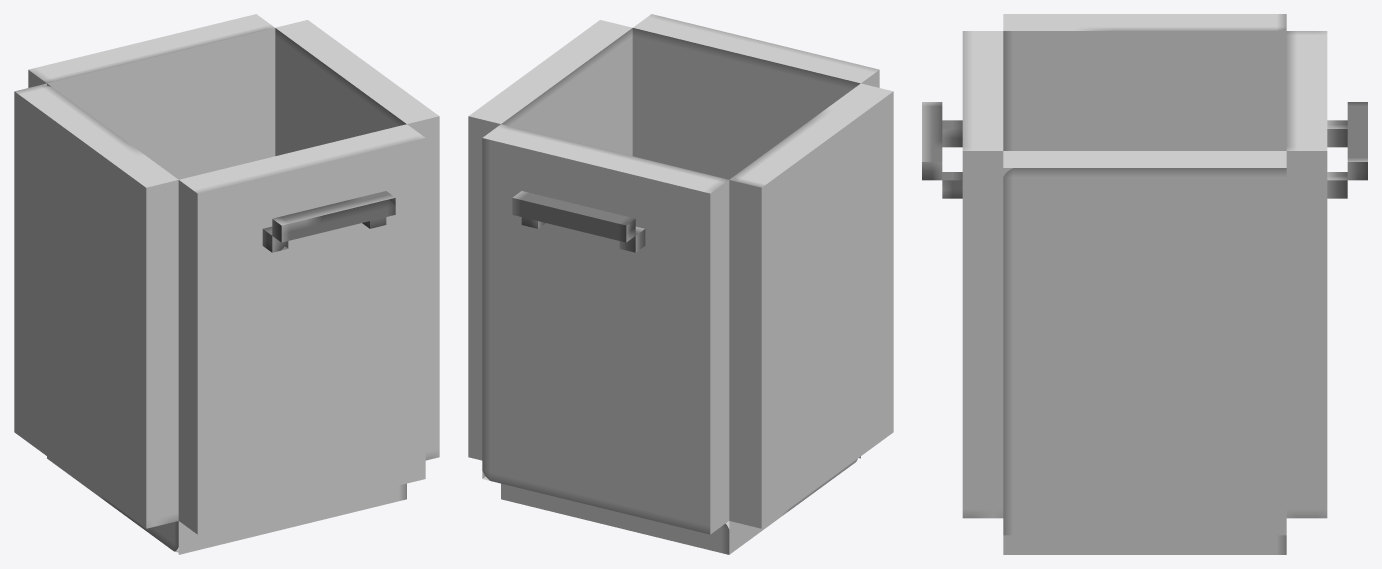
Rendered from oala.fbx.
3 views of the same model, side by side, from view 1: azimuth 30°, elevation 25°; view 2: azimuth 150°, elevation 25°; view 3: azimuth 270°, elevation 25° (orthographic). The views are drawn at different scales.
Visible parts, largest first — view 1: cube_3, cube_2, cube_4, cube_1, cube, cube_8; view 2: cube_4, cube_2, cube_3, cube_1, cube, cube_10; view 3: cube_1, cube_2, cube_3, cube_4, cube, cube_8, cube_10, cube_5, cube_9, cube_6, cube_7.
Boxes of the visible parts, left/top/right/bottom form: cube_3: left=178, top=124, right=425, bottom=534; cube_2: left=14, top=83, right=178, bottom=528; cube_4: left=28, top=14, right=275, bottom=179; cube_1: left=275, top=20, right=439, bottom=460; cube: left=47, top=456, right=406, bottom=554; cube_8: left=272, top=191, right=395, bottom=242; cube_4: left=482, top=124, right=729, bottom=534; cube_2: left=729, top=83, right=893, bottom=528; cube_3: left=632, top=14, right=879, bottom=179; cube_1: left=468, top=20, right=632, bottom=460; cube: left=501, top=456, right=860, bottom=554; cube_10: left=512, top=191, right=635, bottom=242; cube_1: left=1003, top=151, right=1286, bottom=535; cube_2: left=1003, top=14, right=1286, bottom=150; cube_3: left=962, top=31, right=1003, bottom=518; cube_4: left=1286, top=31, right=1327, bottom=518; cube: left=1003, top=535, right=1286, bottom=554; cube_8: left=922, top=102, right=942, bottom=180; cube_10: left=1347, top=102, right=1367, bottom=180; cube_5: left=1327, top=120, right=1347, bottom=147; cube_9: left=942, top=120, right=962, bottom=147; cube_6: left=1327, top=172, right=1347, bottom=198; cube_7: left=942, top=172, right=962, bottom=198.
Bounding box in the file's own units: 112 × 138 × 138.
1 material, 1 textured.
